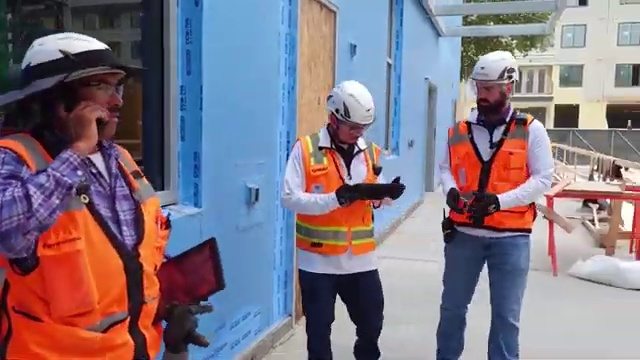helmet: (22, 24, 146, 94), (319, 72, 389, 127), (468, 44, 530, 87)
jacket: (1, 120, 194, 360), (284, 126, 400, 265), (439, 111, 541, 240)
